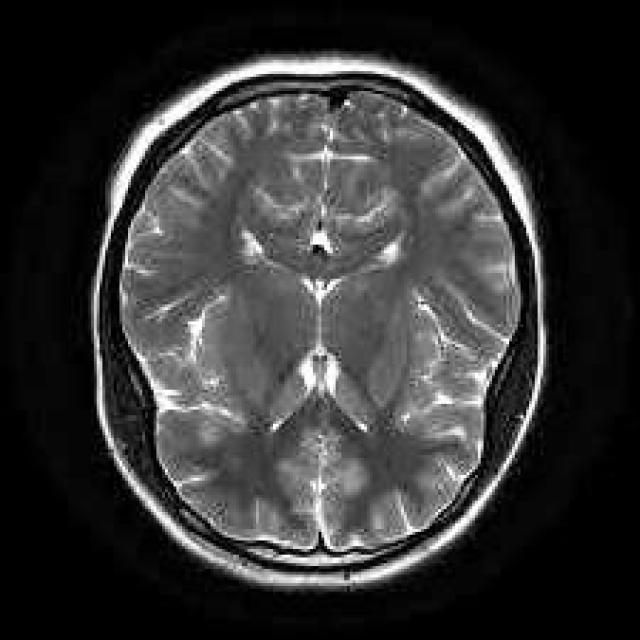notumor: (88, 57, 549, 597)
